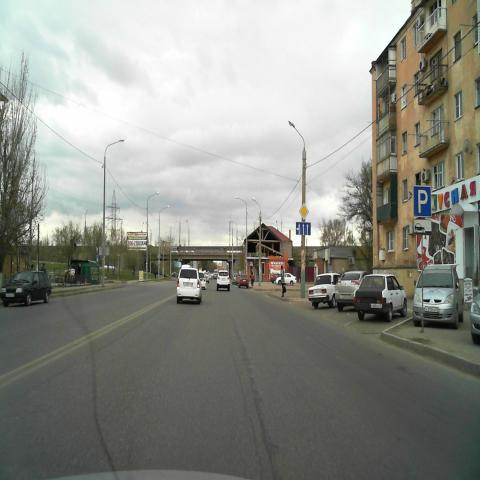8_6_4: (414, 218, 432, 234)
